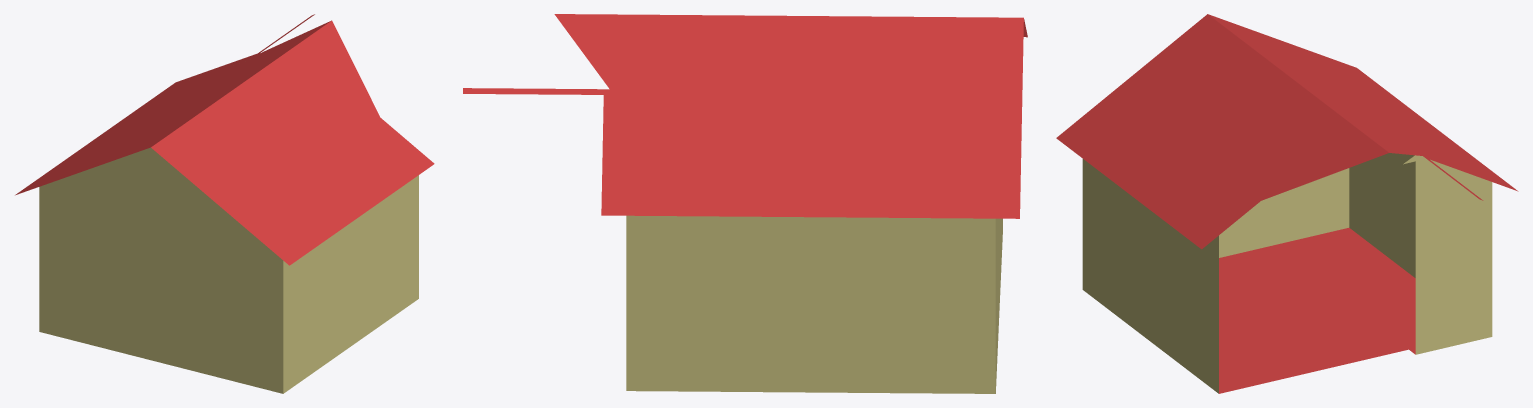
3 renders of one model, left to right at view 1: azimuth 30°, elevation 25°; view 2: azimuth 150°, elevation 25°; view 3: azimuth 270°, elevation 25°, orthographic. The views are drawn at different scales.
Size of the model in its own units: 22.53 by 23.52 by 13.3.
